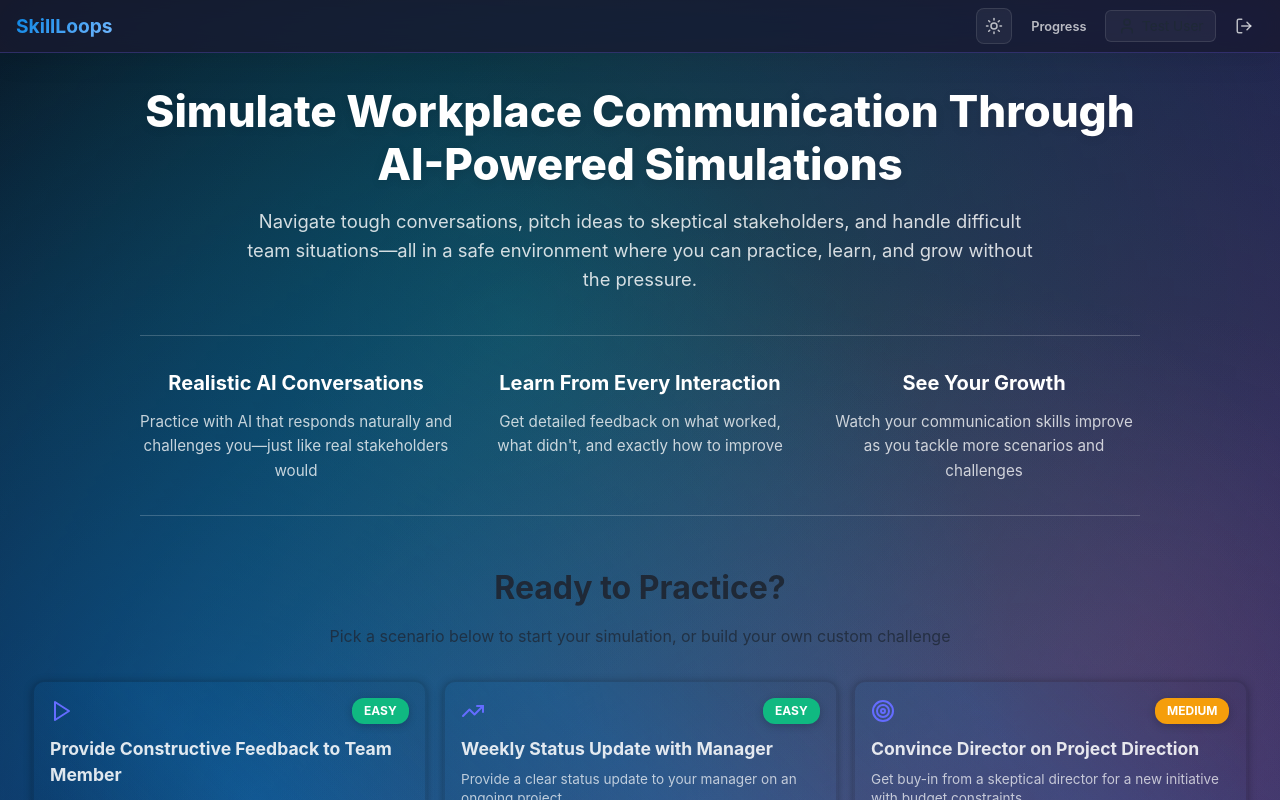
Test case: Scenario Selection and Simulation Integration Tests › should return to scenario selection when back home is clicked
Expected: the heading "Ready to Practice?" is shown, [494,568,786,607]
Start a simulation
Click the heading "Provide Constructive Feedback to Team Member" at (221, 748), box [50,736,409,789]
(page scrolled)
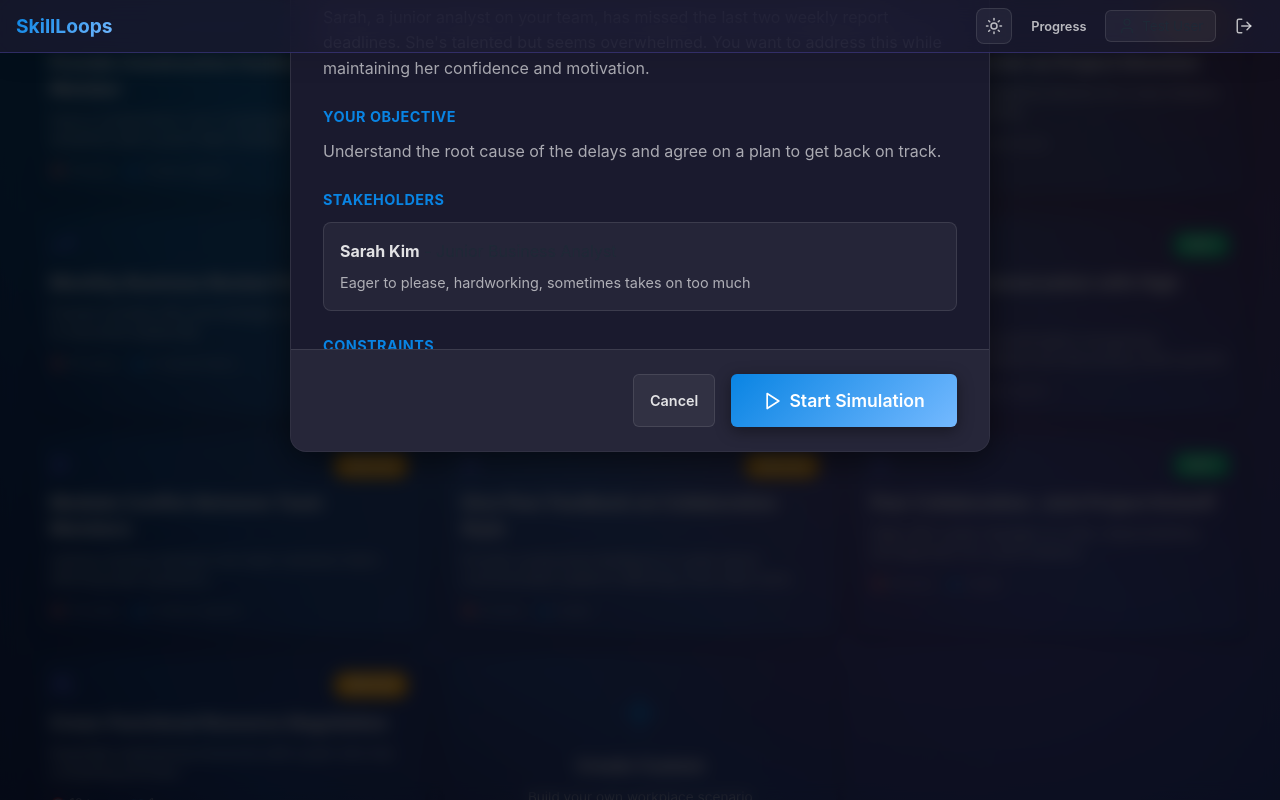
Result: the button "Start Simulation" is shown
Click the button "Start Simulation" at (844, 400), box [731,374,957,427]
(page scrolled)
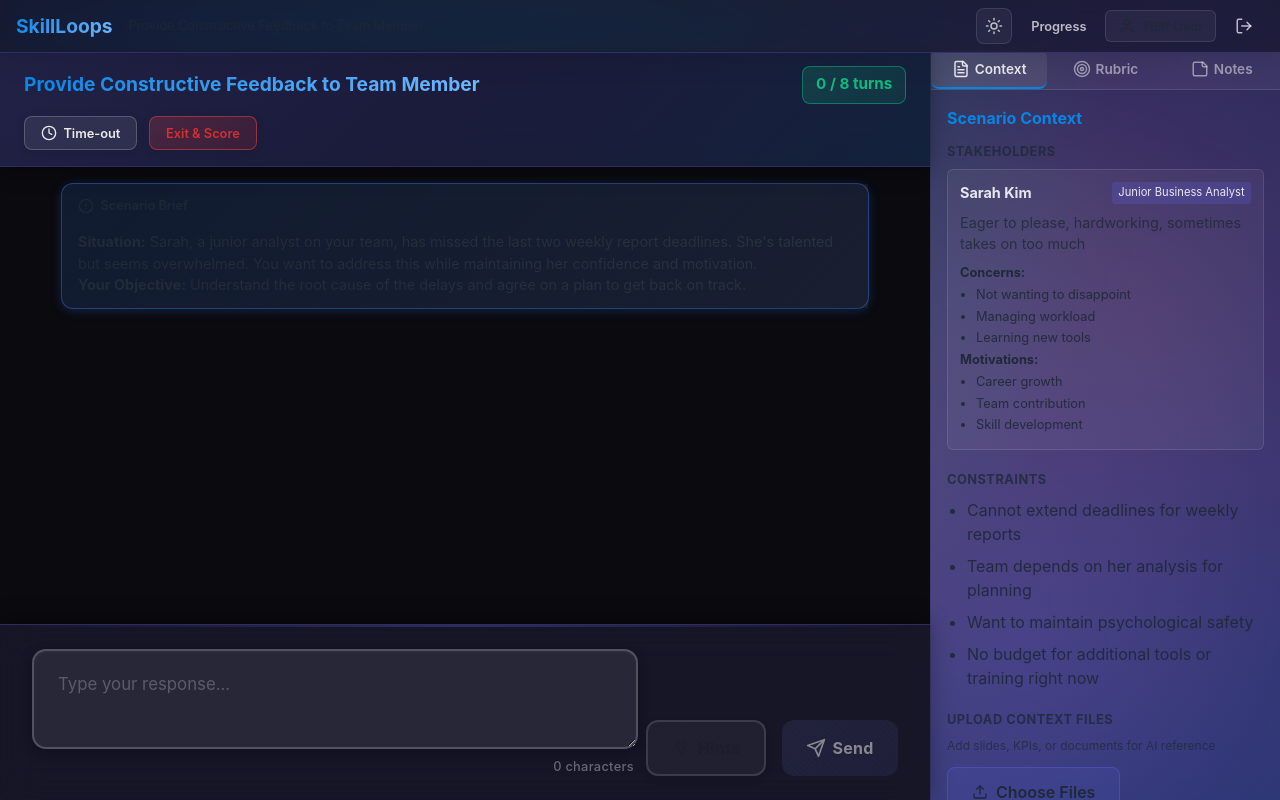
Result: the text "0 / 8 turns" is shown at [802,66,906,104]
Click app title to go back home
Click the heading "SkillLoops" at (64, 26), box [16,12,112,40]
(page scrolled)
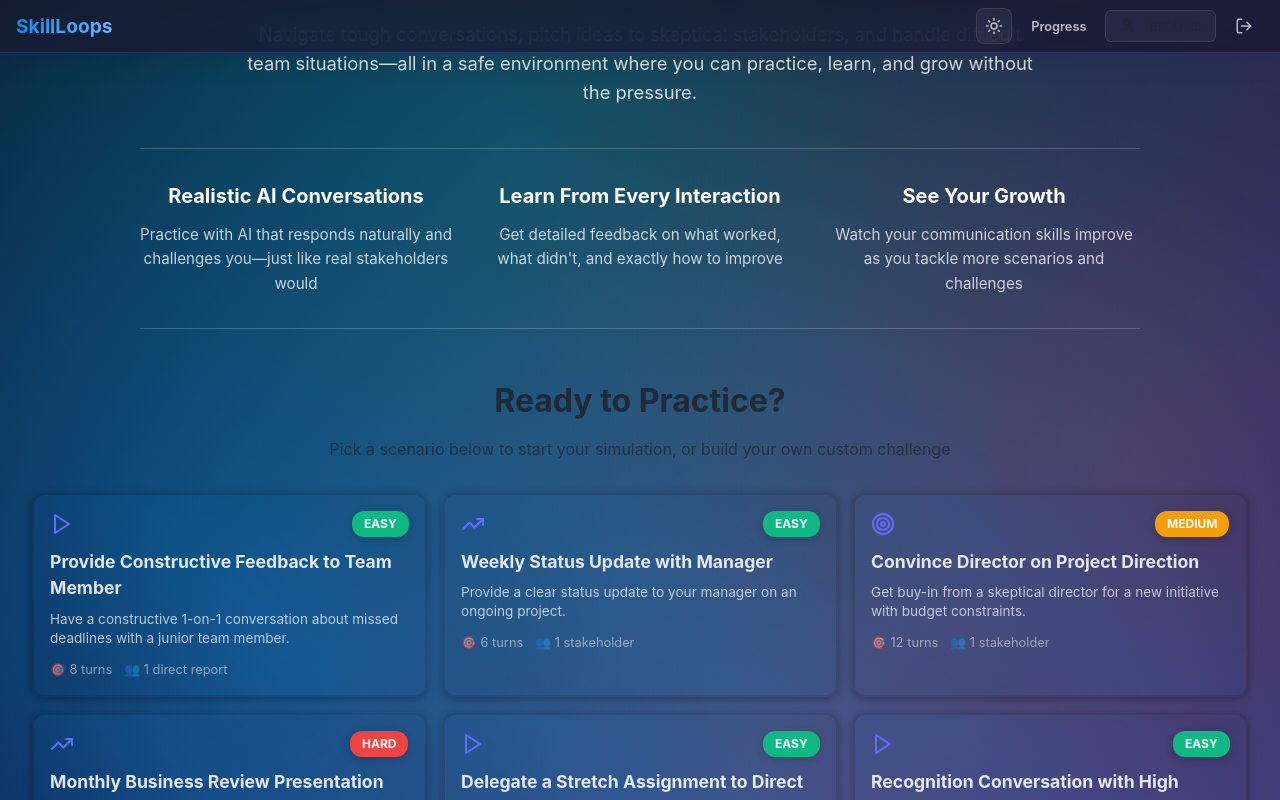
Result: the heading "Ready to Practice?" is shown at [494,381,786,420]
